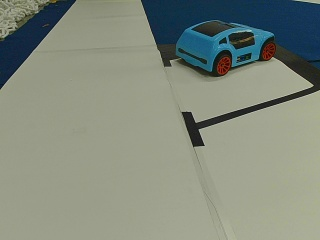car: (175, 21, 275, 75)
